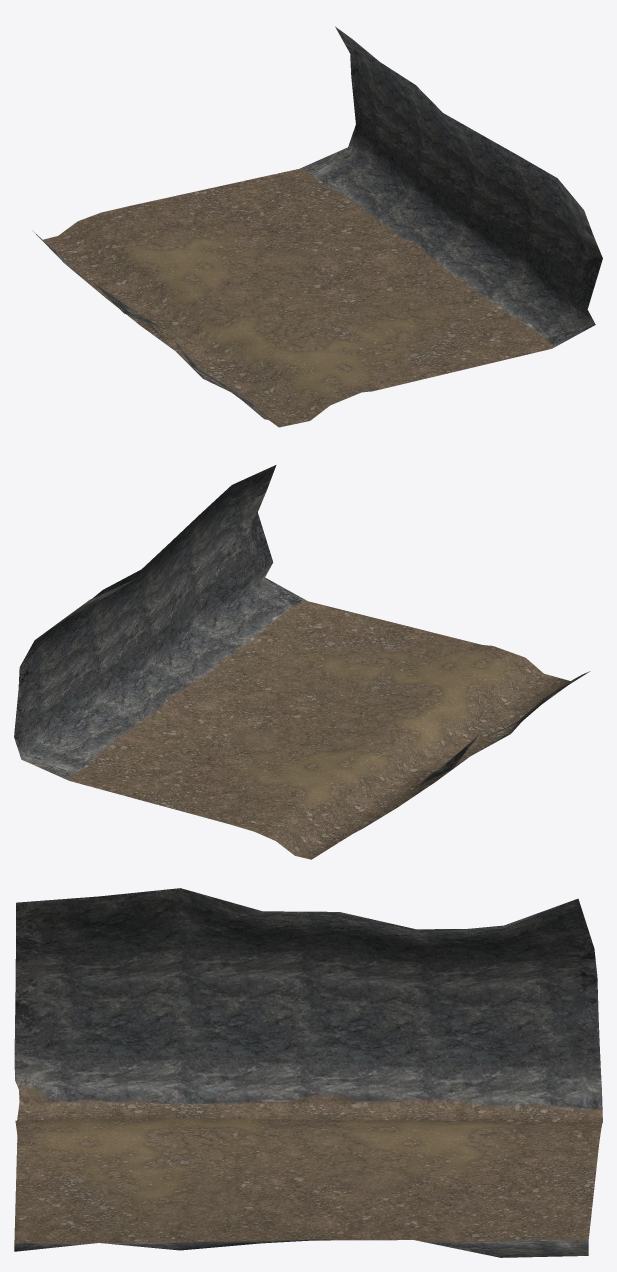
The model's file is TunnelA5.glb.
3 renders of one model, top to bottom at view 1: azimuth 30°, elevation 25°; view 2: azimuth 150°, elevation 25°; view 3: azimuth 270°, elevation 25°, orthographic. The views are drawn at different scales.
Parts seen in each view (by area): view 1: TunnelA5; view 2: TunnelA5; view 3: TunnelA5.
Part boxes in pixels (box(x1,y1,x2,y2)): TunnelA5: box(32, 26, 602, 427); TunnelA5: box(14, 465, 590, 859); TunnelA5: box(14, 888, 602, 1257).
Bounding box in the file's own units: 4.33 × 2.43 × 5.42.
Materials: 1 (1 with a texture image).
